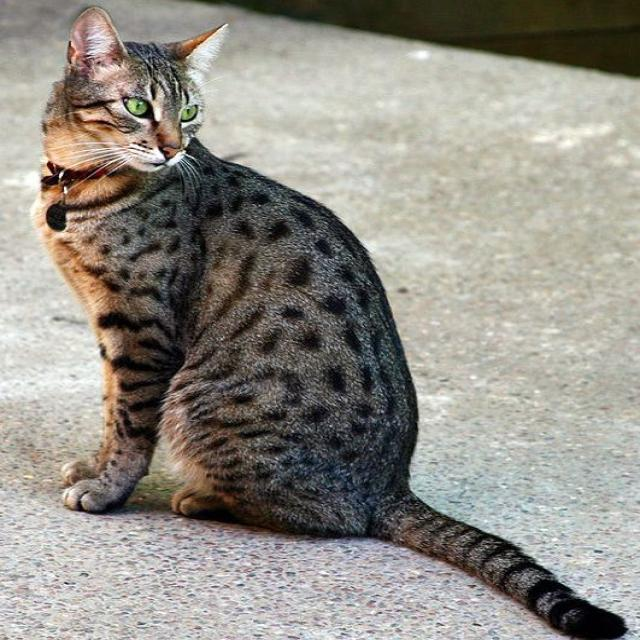Egyptian_Mau: (59, 0, 234, 172)
